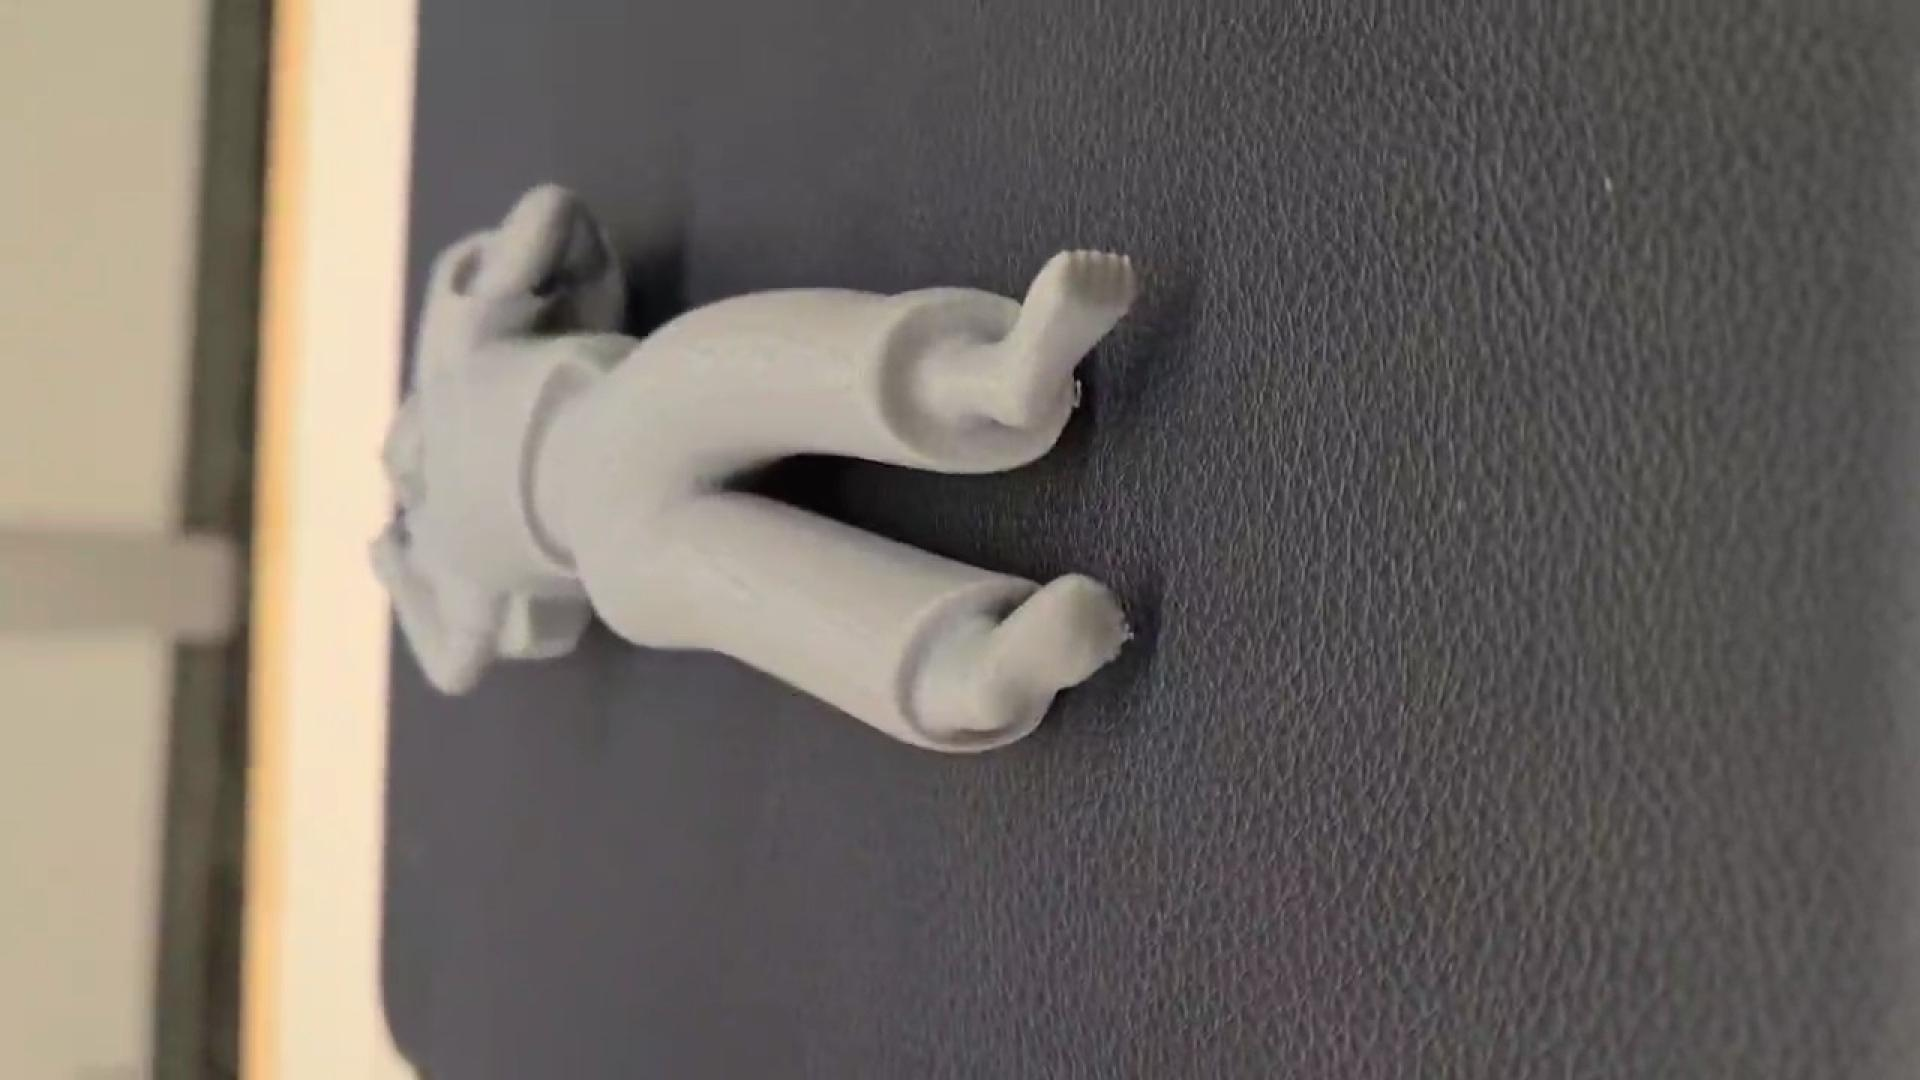Bad-style: (372, 182, 1142, 774)
